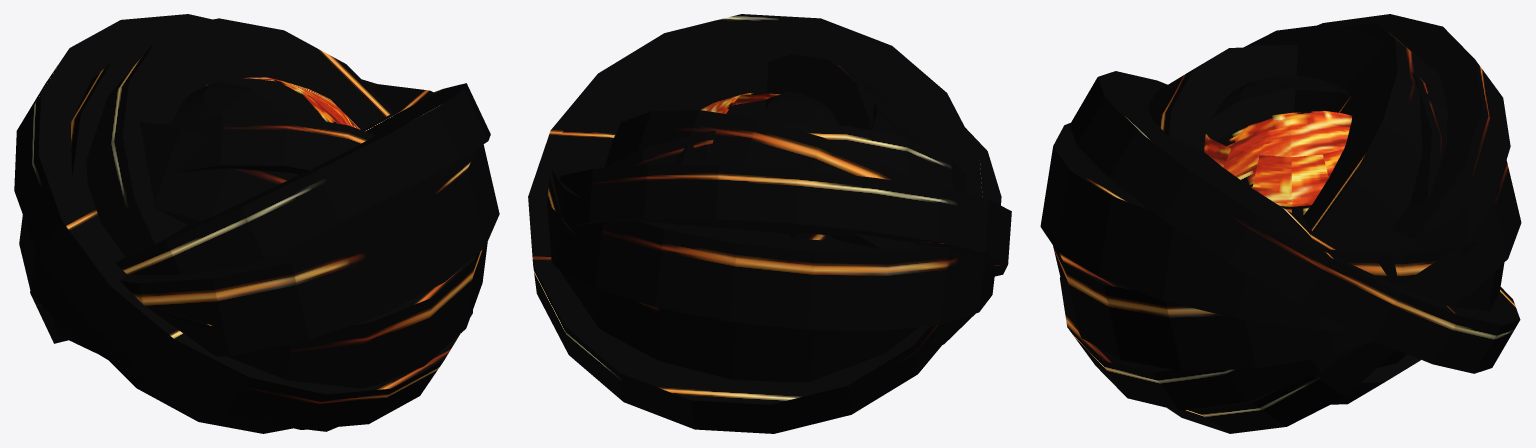
The model's file is frame_075.obj.
3 renders of one model, left to right at view 1: azimuth 30°, elevation 25°; view 2: azimuth 150°, elevation 25°; view 3: azimuth 270°, elevation 25°, orthographic. The views are drawn at different scales.
Visible parts, largest first — view 1: cylinder, sphere; view 2: cylinder, sphere; view 3: cylinder, sphere.
Boxes of the visible parts, x1,y1,x2,y2 form: cylinder: [14, 14, 499, 433]; sphere: [173, 77, 360, 129]; cylinder: [528, 14, 1011, 433]; sphere: [701, 91, 839, 125]; cylinder: [1040, 14, 1521, 433]; sphere: [1204, 75, 1352, 216].
Size of the model in its own units: 1.12 by 0.8038 by 1.06.
Materials: 5 (5 with a texture image).
